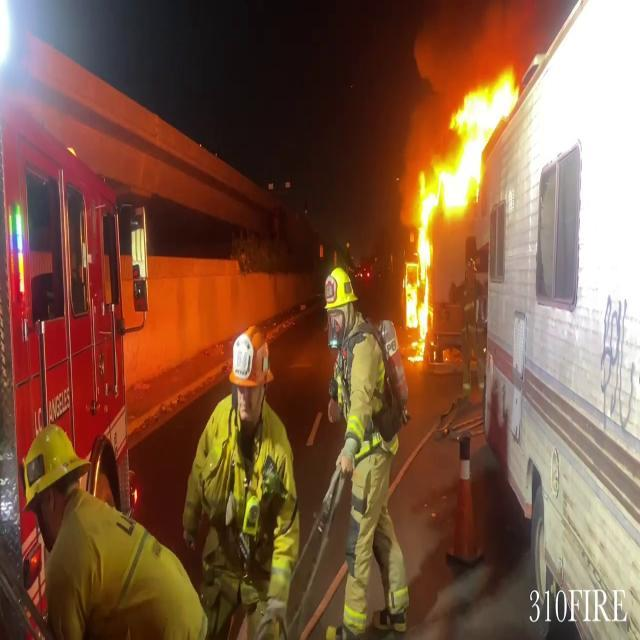Fire: (426, 57, 520, 219), (400, 167, 438, 357)
